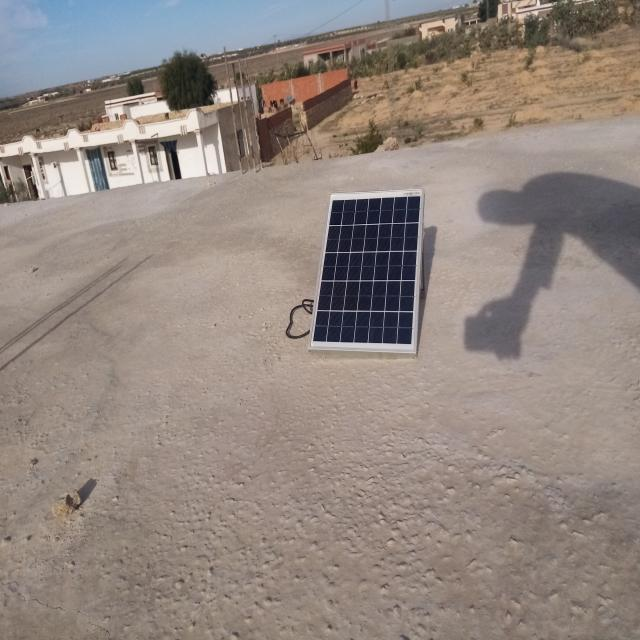no faulty: (308, 188, 423, 353)
